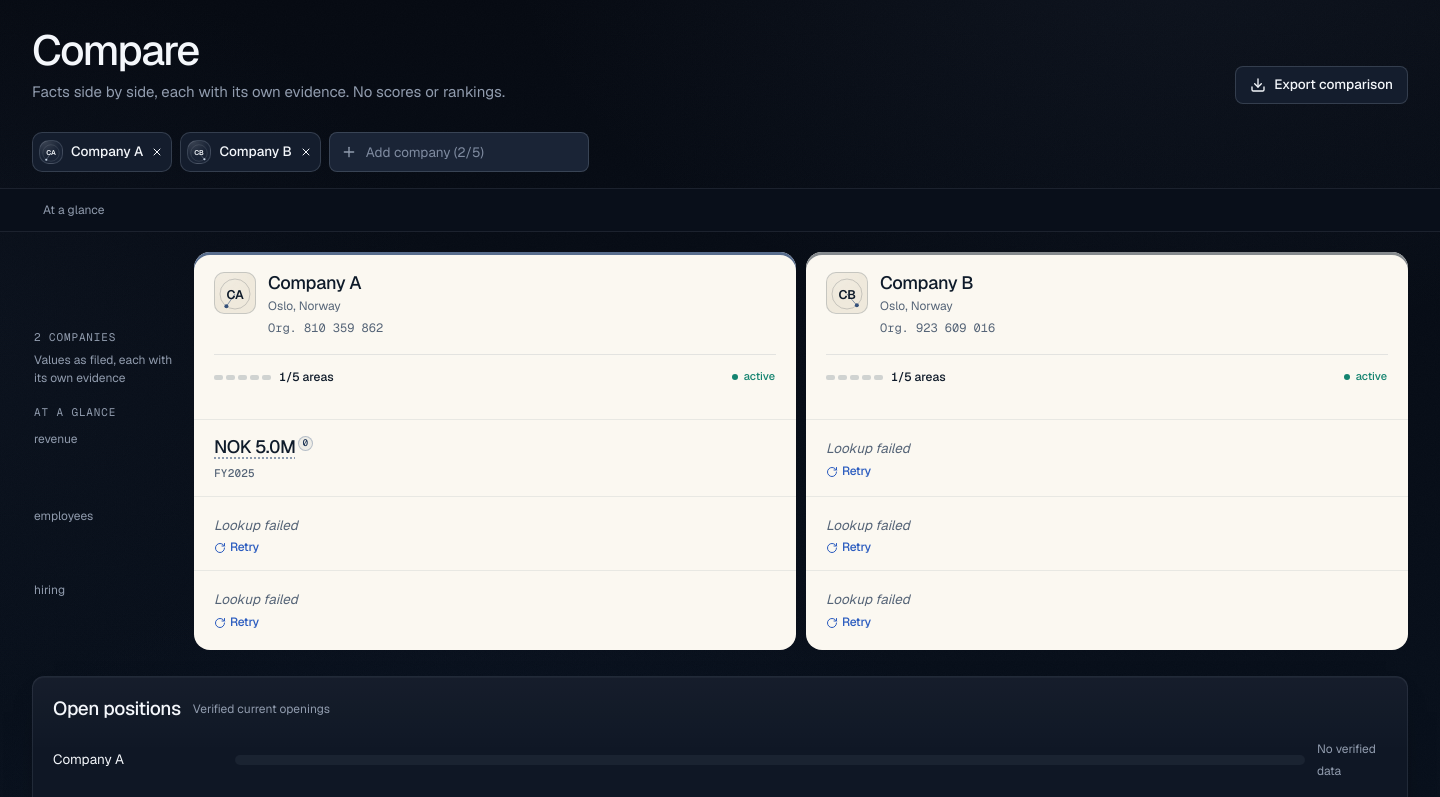
it: 4 · Compare auto-enrichment › a failed request is "Lookup failed" with Retry (not "Not available"), and Retry fetches again
Click the button "Retry" in the row of "FY2025" at (848, 472), box [826,462,871,481]
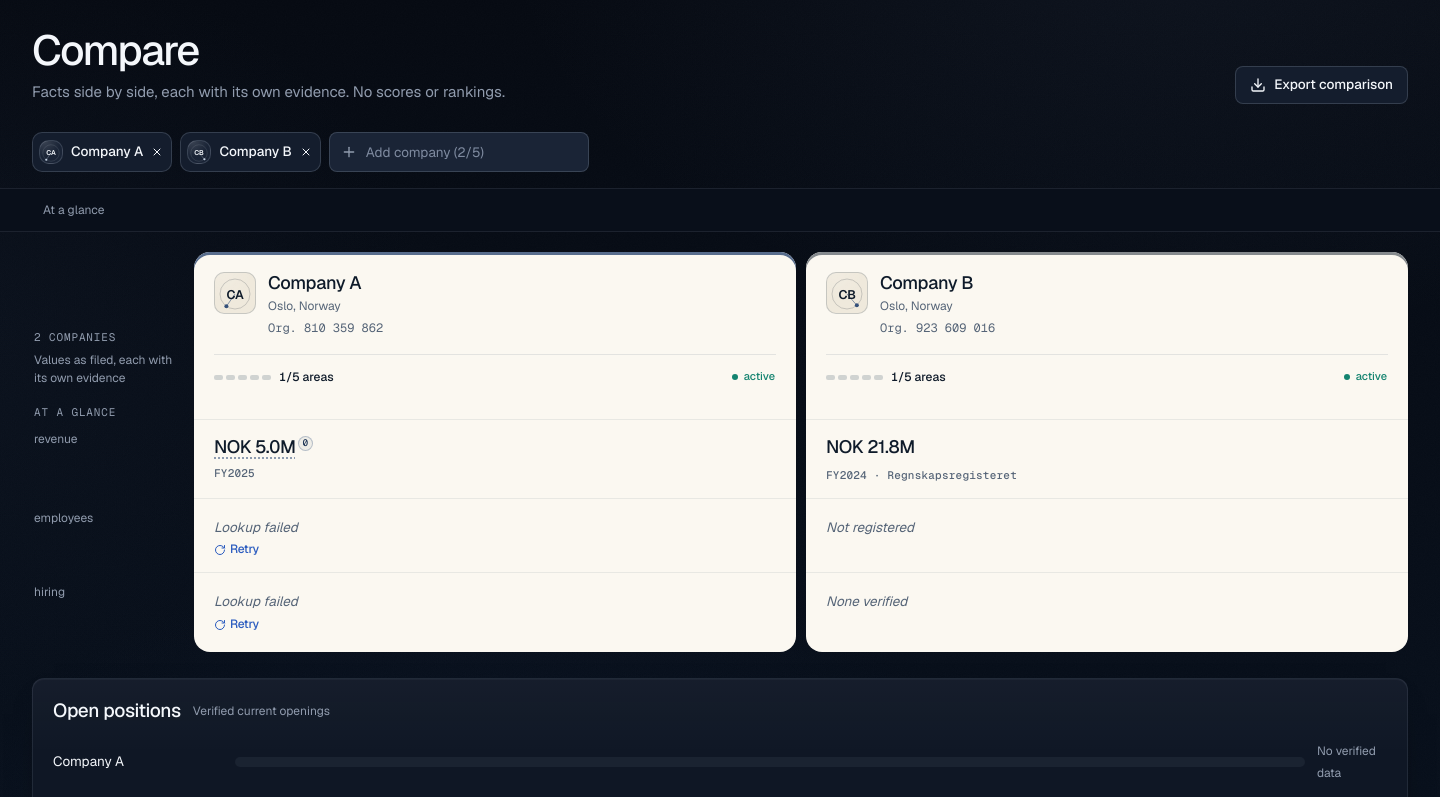
Result: the text "Not registered" is shown at [826,517,914,538]
